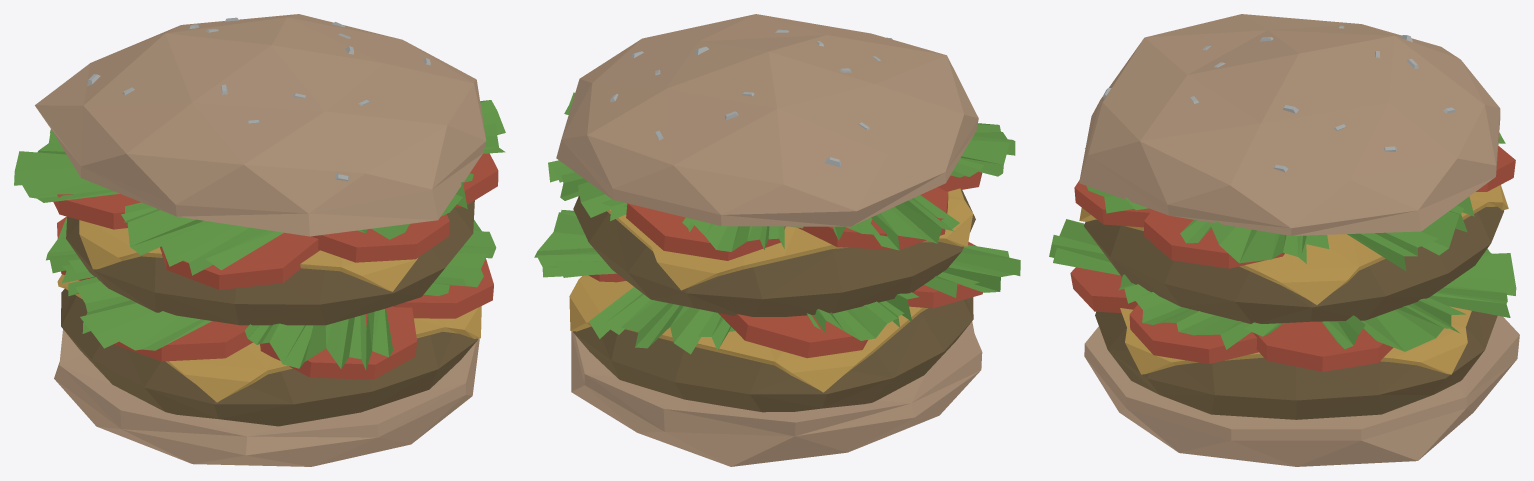
The model's file is BurgerLarge.glb.
3 views of the same model, side by side, from view 1: azimuth 30°, elevation 25°; view 2: azimuth 150°, elevation 25°; view 3: azimuth 270°, elevation 25° (orthographic). The views are drawn at different scales.
Parts seen in each view (by area): view 1: BurgerLarge; view 2: BurgerLarge; view 3: BurgerLarge.
Part boxes in pixels (<box>): BurgerLarge: <box>14,14,505,466</box>; BurgerLarge: <box>534,14,1020,466</box>; BurgerLarge: <box>1049,14,1519,466</box>.
Size of the model in its own units: 1.72 by 1.45 by 1.67.
1 material, 1 textured.
